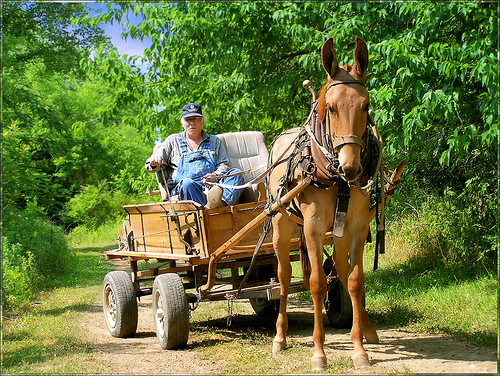horse: (266, 36, 380, 370)
